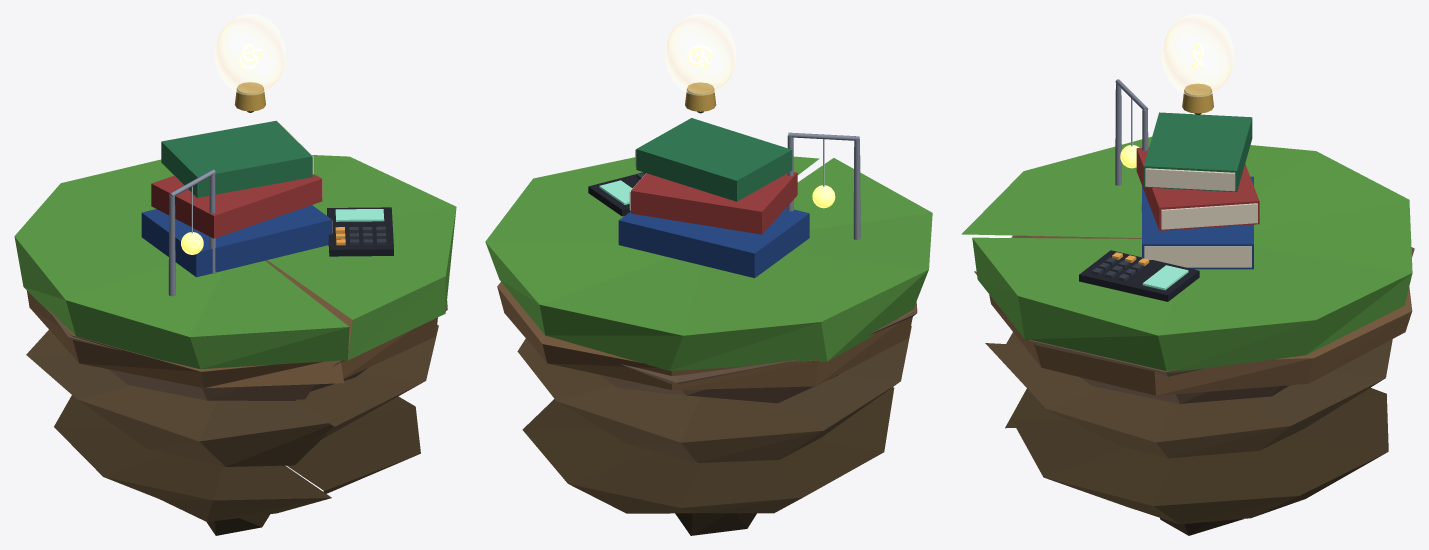
File: study-island.glb
The picture shows the model from 3 angles, left to right: view 1: azimuth 30°, elevation 25°; view 2: azimuth 150°, elevation 25°; view 3: azimuth 270°, elevation 25°; orthographic projection. The views are drawn at different scales.
Visible parts, largest first — view 1: GrassTop, Strata1, Strata2, StudyIsland, Book3, Book1, Book2, Bulb, Calculator, Strata0, Pendulum; view 2: GrassTop, Strata2, Strata1, StudyIsland, Book3, Book1, Book2, Bulb, Strata0, Pendulum, Calculator; view 3: GrassTop, Strata2, Strata1, StudyIsland, Book3, Bulb, Book1, Book2, Calculator, Strata0, Pendulum.
Part boxes in pixels (x1=…): GrassTop: x1=14, y1=155, x2=456, y2=369; Strata1: x1=26, y1=325, x2=438, y2=466; Strata2: x1=54, y1=395, x2=420, y2=521; StudyIsland: x1=27, y1=260, x2=437, y2=535; Book3: x1=161, y1=120, x2=313, y2=197; Book1: x1=141, y1=205, x2=332, y2=277; Book2: x1=151, y1=174, x2=322, y2=238; Bulb: x1=215, y1=14, x2=285, y2=112; Calculator: x1=327, y1=207, x2=393, y2=256; Strata0: x1=45, y1=300, x2=447, y2=400; Pendulum: x1=168, y1=169, x2=215, y2=296; GrassTop: x1=485, y1=156, x2=932, y2=370; Strata2: x1=522, y1=387, x2=894, y2=513; Strata1: x1=517, y1=326, x2=911, y2=462; StudyIsland: x1=497, y1=282, x2=914, y2=535; Book3: x1=635, y1=118, x2=792, y2=201; Book1: x1=618, y1=207, x2=809, y2=278; Book2: x1=629, y1=172, x2=797, y2=234; Bulb: x1=665, y1=14, x2=736, y2=113; Strata0: x1=599, y1=302, x2=917, y2=403; Pendulum: x1=787, y1=132, x2=860, y2=239; Calculator: x1=588, y1=172, x2=645, y2=216; GrassTop: x1=961, y1=136, x2=1412, y2=373; Strata2: x1=1005, y1=387, x2=1388, y2=524; Strata1: x1=985, y1=332, x2=1392, y2=458; StudyIsland: x1=989, y1=235, x2=1412, y2=535; Book3: x1=1143, y1=112, x2=1252, y2=192; Bulb: x1=1162, y1=14, x2=1234, y2=114; Book1: x1=1142, y1=176, x2=1253, y2=269; Book2: x1=1136, y1=147, x2=1259, y2=230; Calculator: x1=1079, y1=250, x2=1199, y2=301; Strata0: x1=974, y1=235, x2=1414, y2=403; Pendulum: x1=1115, y1=79, x2=1148, y2=211.
Size of what is drawn, in the model's own units: 4.34 by 5.33 by 4.25.
